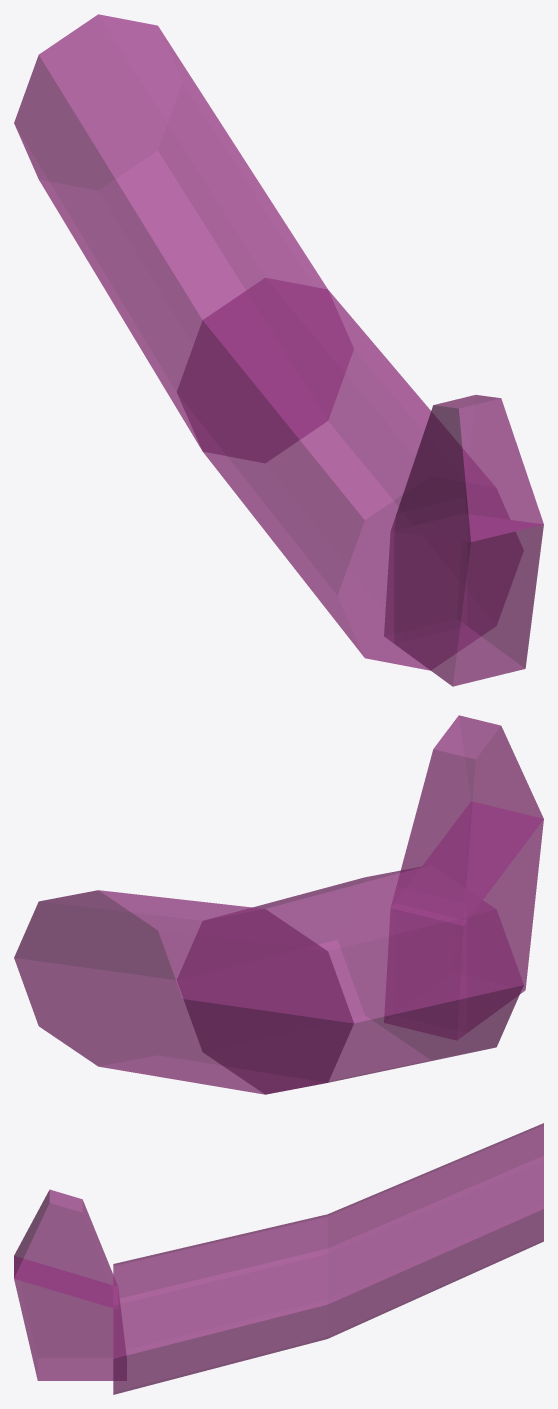
Rendered from SM_Bld_Roof_Edge_Small_Trim_End_02_Collision_01.fbx.
3 views of the same model, one above another, from view 1: azimuth 30°, elevation 25°; view 2: azimuth 150°, elevation 25°; view 3: azimuth 270°, elevation 25° (orthographic). The views are drawn at different scales.
Visible parts, largest first — view 1: SM_Bld_Roof_Edge_Small_Trim_End_02_Collision_01; view 2: SM_Bld_Roof_Edge_Small_Trim_End_02_Collision_01; view 3: SM_Bld_Roof_Edge_Small_Trim_End_02_Collision_01.
Part boxes in pixels (left/top/right/bottom): SM_Bld_Roof_Edge_Small_Trim_End_02_Collision_01: left=14, top=14, right=543, bottom=686; SM_Bld_Roof_Edge_Small_Trim_End_02_Collision_01: left=14, top=715, right=543, bottom=1094; SM_Bld_Roof_Edge_Small_Trim_End_02_Collision_01: left=14, top=1123, right=543, bottom=1394.
Size of the model in its own units: 43.59 by 92.31 by 166.
